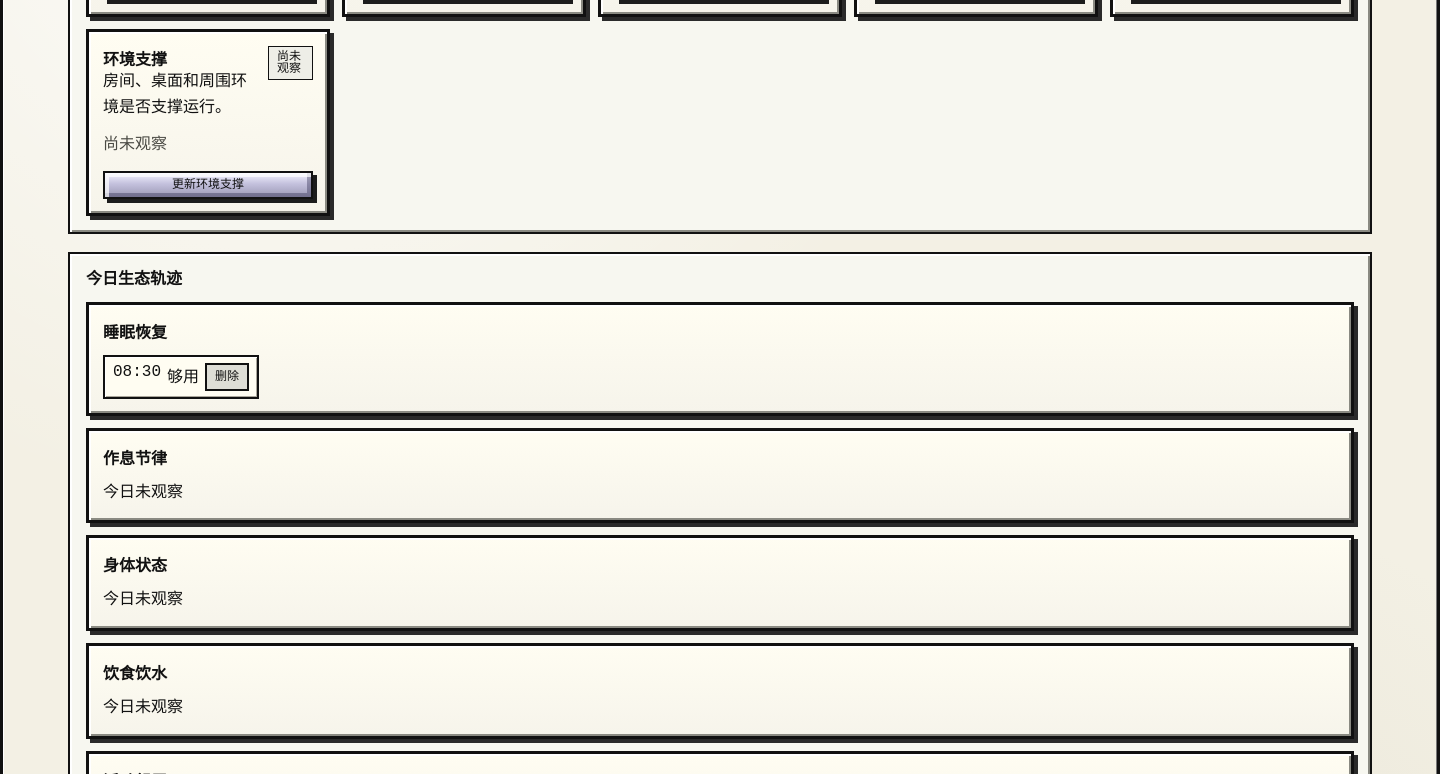
PersonalEcosystemPanel › lets the user delete an observed timeline option after a mistaken tap
(page scrolled)
Expected: the text "够用" is shown, [167, 363, 199, 391]
Step 1. Click the button with aria-label "删除睡眠恢复 08:30 够用" → point(227, 377), box [205, 363, 249, 391]
(page scrolled)
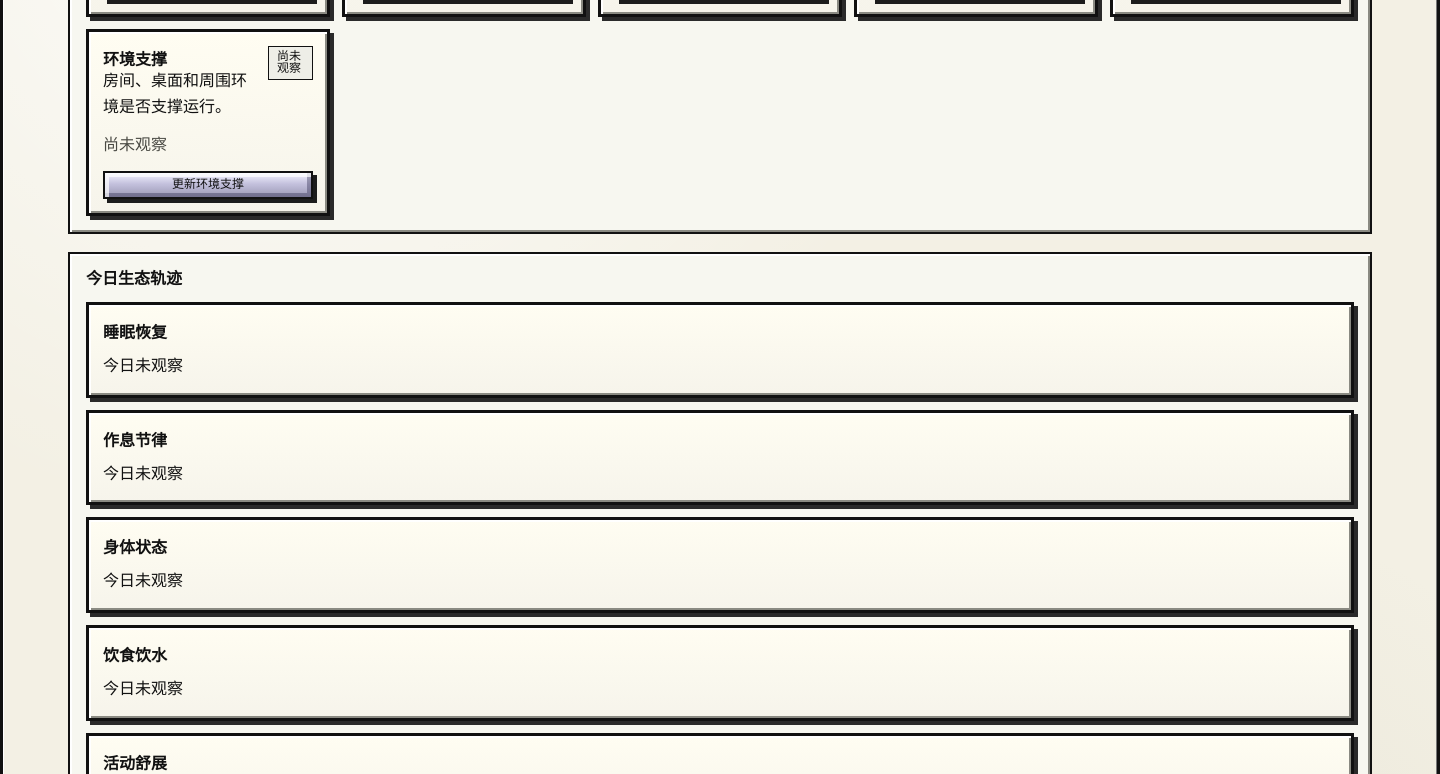
Expected: the list item "够用" is not shown
Now the 1st text "今日未观察" is shown, box [103, 358, 183, 376]
